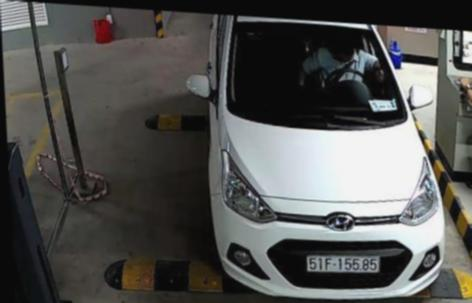License_Plate: (305, 249, 381, 277)
